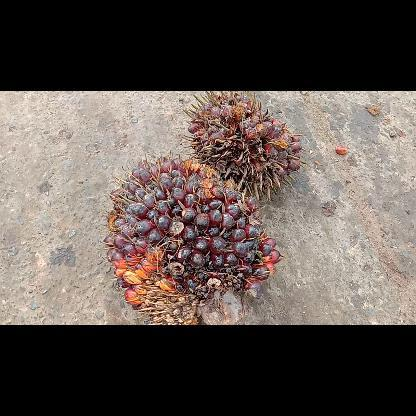Kurang masak: (100, 150, 282, 324)
TBS masak: (182, 90, 306, 200)
